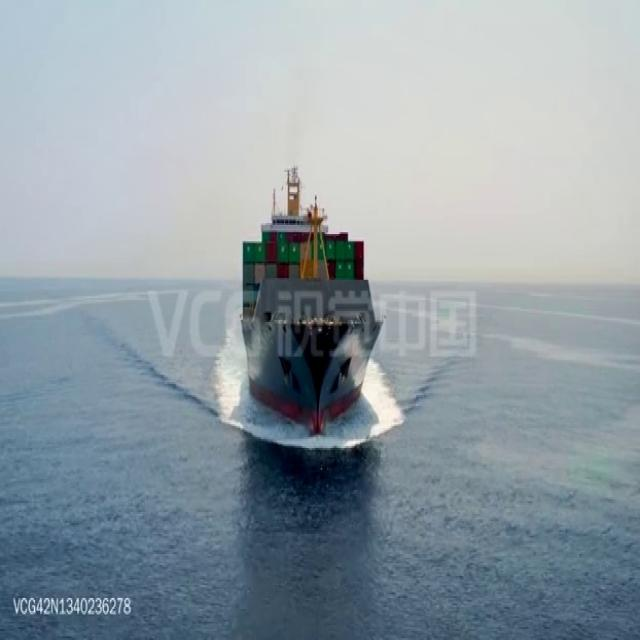cargoship: (240, 160, 384, 434)
